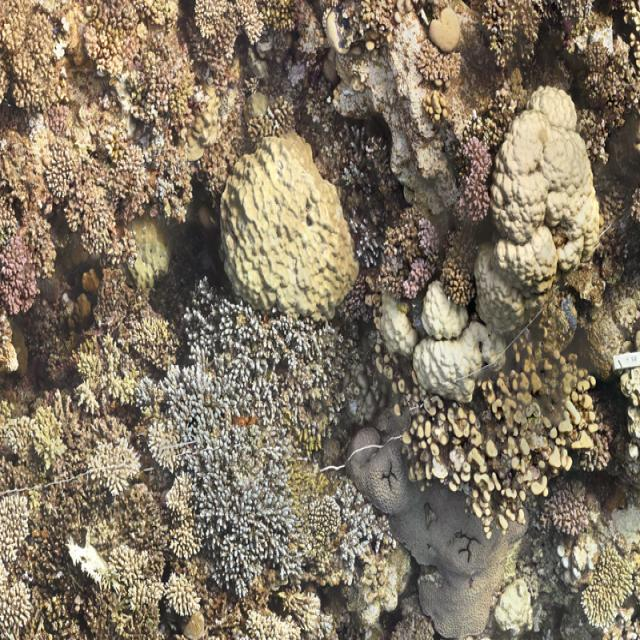Bleached Coral: (160, 286, 336, 589)
Healthy Coral: (3, 2, 253, 298), (455, 136, 495, 233), (393, 222, 444, 297)
